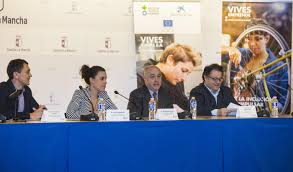person: (68, 56, 116, 121), (189, 62, 238, 115), (131, 66, 171, 124)
